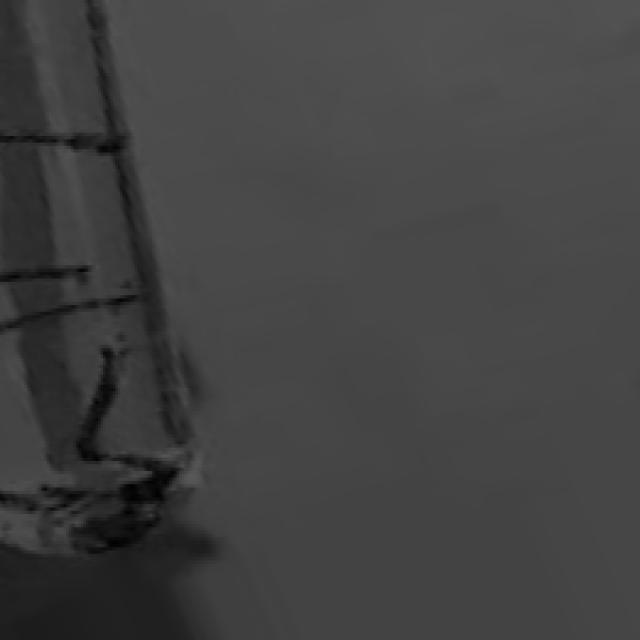larvas: (0, 293, 138, 327), (80, 349, 121, 456), (109, 453, 173, 485), (0, 266, 88, 281)
